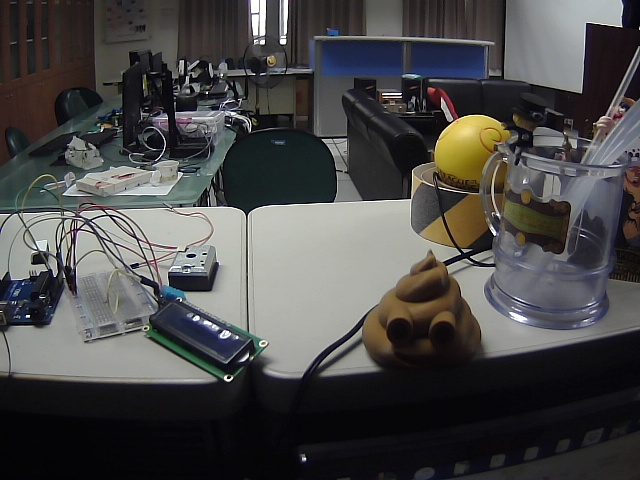shit: (358, 246, 493, 379)
